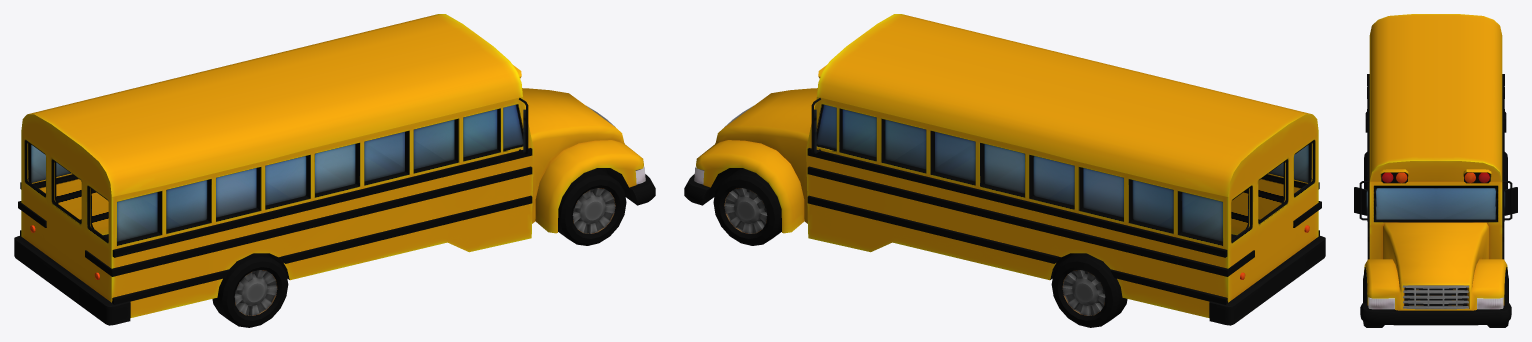
Rendered from SchoolBus.fbx.
3 views of the same model, side by side, from view 1: azimuth 30°, elevation 25°; view 2: azimuth 150°, elevation 25°; view 3: azimuth 270°, elevation 25° (orthographic). The views are drawn at different scales.
Parts seen in each view (by area): view 1: schoolbus.055, schoolbus.003, schoolbus.004; view 2: schoolbus.055, schoolbus.001, schoolbus.002; view 3: schoolbus.055, schoolbus.002, schoolbus.004, schoolbus.001, schoolbus.003.
Boxes of the visible parts, box(x1,y1,x2,y2) form: schoolbus.055: box(14, 14, 655, 325); schoolbus.003: box(212, 253, 288, 327); schoolbus.004: box(558, 168, 626, 245); schoolbus.055: box(684, 14, 1325, 325); schoolbus.001: box(1051, 253, 1127, 327); schoolbus.002: box(713, 168, 781, 245); schoolbus.055: box(1354, 14, 1517, 325); schoolbus.002: box(1487, 272, 1508, 327); schoolbus.004: box(1363, 272, 1384, 327); schoolbus.001: box(1504, 152, 1507, 189); schoolbus.003: box(1364, 152, 1367, 189).
Bounding box in the file's own units: 6807 × 2257 × 2394.
